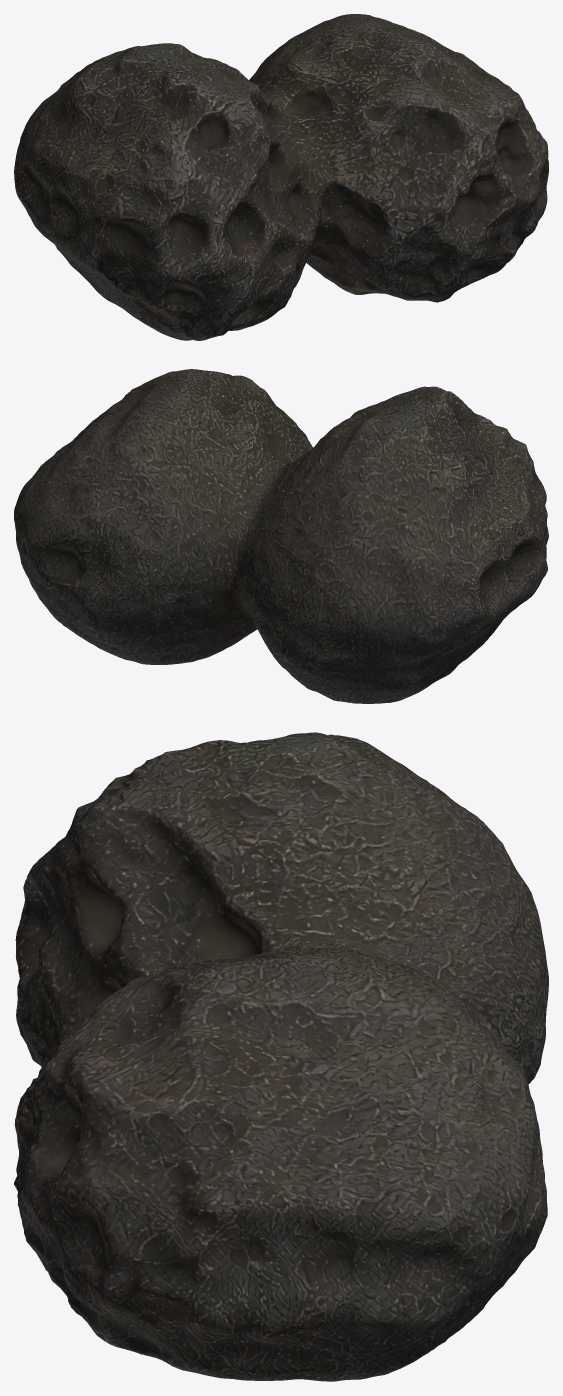
The model's file is asteroid_rare_3.glb.
3 views of the same model, one above another, from view 1: azimuth 30°, elevation 25°; view 2: azimuth 150°, elevation 25°; view 3: azimuth 270°, elevation 25° (orthographic). The views are drawn at different scales.
Visible parts, largest first — view 1: model; view 2: model; view 3: model.
Part boxes in pixels (x1,y1,x2,y2): model: (14,14,548,340); model: (14,369,548,703); model: (14,732,548,1381).
Bounding box in the file's own units: 1.9 × 1.13 × 1.23.
Materials: 1 (1 with a texture image).
